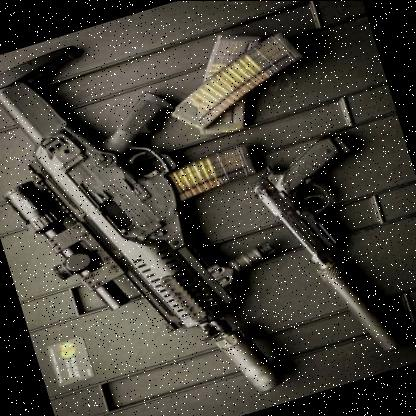rifle: (0, 0, 351, 416), (241, 130, 416, 382)
